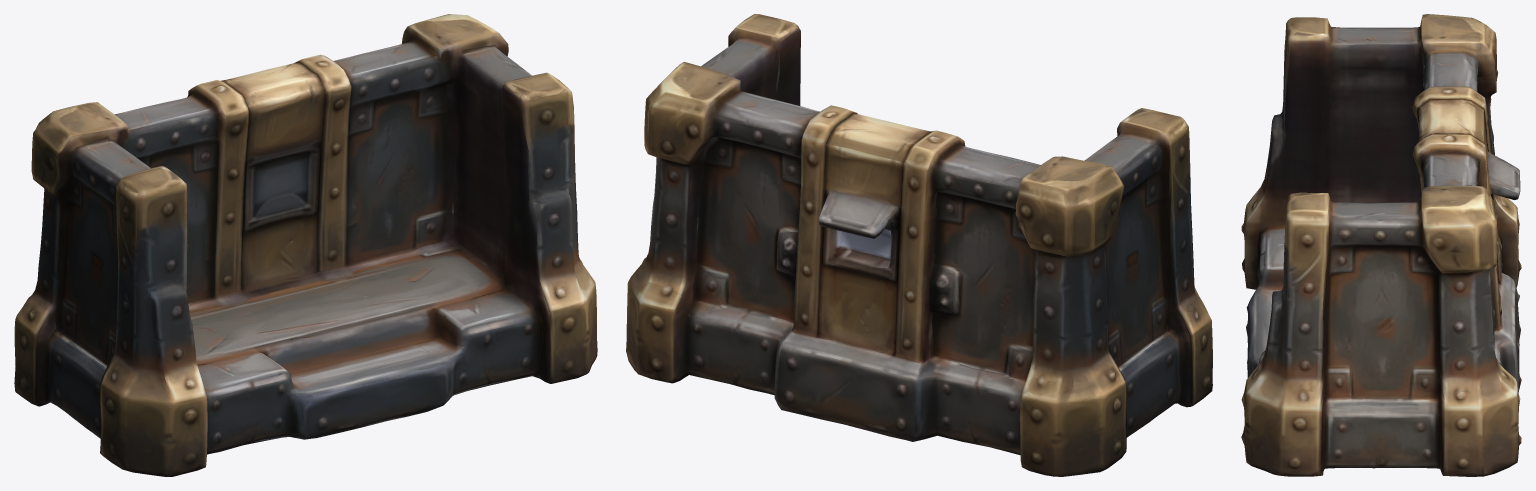
The model's file is Brasswake armor wall segment.glb.
The picture shows the model from 3 angles, left to right: view 1: azimuth 30°, elevation 25°; view 2: azimuth 150°, elevation 25°; view 3: azimuth 270°, elevation 25°; orthographic projection. The views are drawn at different scales.
Visible parts, largest first — view 1: Chest; view 2: Chest; view 3: Chest.
Part boxes in pixels (x1,y1,x2,y2): Chest: (14,14,597,476); Chest: (626,14,1212,476); Chest: (1241,14,1521,476).
Bounding box in the file's own units: 0.9 × 0.4912 × 0.4832.
Materials: 1 (1 with a texture image).
